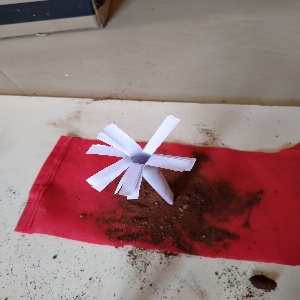weed: (74, 99, 196, 207)
